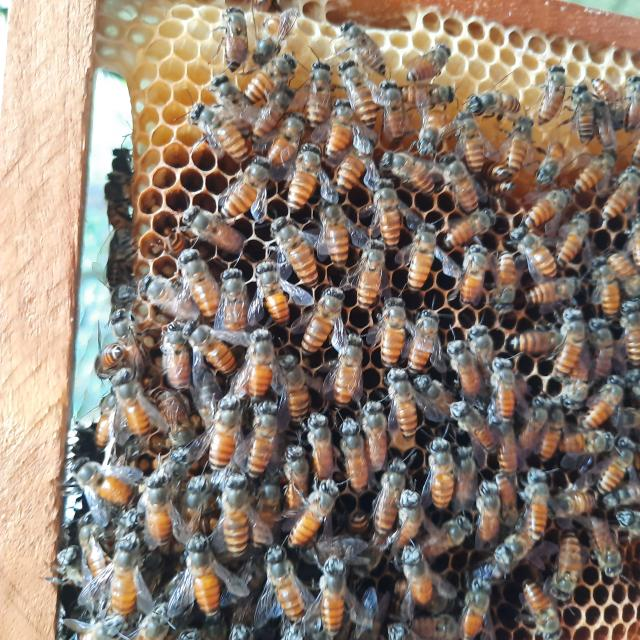honeybee: (203, 470, 279, 554), (102, 546, 172, 624), (272, 487, 350, 554), (67, 455, 136, 528), (304, 553, 364, 632), (440, 398, 516, 457), (157, 443, 229, 502), (272, 544, 331, 616), (131, 488, 202, 547), (357, 396, 418, 463), (470, 530, 516, 618), (576, 399, 626, 479), (401, 552, 456, 624), (506, 471, 554, 553), (406, 225, 459, 295), (470, 469, 522, 537), (116, 378, 168, 444), (336, 424, 392, 484), (251, 397, 295, 471), (177, 561, 236, 615), (213, 272, 262, 336), (280, 230, 328, 295), (383, 372, 429, 439), (136, 282, 202, 327), (446, 157, 498, 214), (190, 223, 252, 269), (563, 80, 609, 142), (233, 170, 290, 220), (404, 320, 448, 383), (219, 386, 246, 488), (423, 433, 458, 511), (310, 420, 354, 478), (392, 141, 444, 190), (373, 180, 410, 248), (547, 312, 585, 378), (278, 449, 331, 495), (334, 24, 392, 66), (478, 356, 517, 418), (258, 258, 294, 325), (279, 366, 330, 413), (520, 568, 558, 630), (324, 340, 368, 393), (374, 462, 402, 544), (449, 256, 488, 314), (243, 332, 284, 386), (508, 321, 556, 367), (290, 151, 326, 207), (340, 144, 381, 191), (176, 260, 229, 296), (534, 403, 563, 467), (164, 330, 197, 386), (590, 332, 624, 386), (556, 472, 593, 521), (356, 249, 387, 307), (495, 260, 527, 316), (440, 334, 478, 381), (551, 528, 583, 583), (498, 115, 527, 173), (218, 2, 259, 43), (600, 172, 640, 214), (598, 515, 626, 573), (590, 377, 626, 422), (402, 487, 429, 547), (425, 374, 456, 424), (195, 338, 238, 373), (268, 128, 315, 160), (338, 80, 370, 126), (464, 318, 499, 360), (518, 141, 559, 176), (423, 518, 465, 552), (498, 228, 537, 264), (372, 311, 408, 347), (410, 54, 474, 74), (549, 265, 580, 305), (328, 222, 358, 263), (293, 69, 323, 109), (311, 295, 337, 341), (576, 160, 619, 187), (531, 70, 560, 110), (102, 336, 134, 372), (514, 200, 563, 223), (368, 96, 408, 124), (439, 216, 495, 236), (455, 140, 489, 172), (260, 90, 296, 120), (423, 80, 452, 116), (469, 92, 527, 110), (596, 275, 618, 321), (250, 60, 298, 81), (607, 482, 640, 512), (324, 108, 350, 145), (415, 125, 449, 153), (197, 100, 222, 132), (559, 223, 580, 251)
